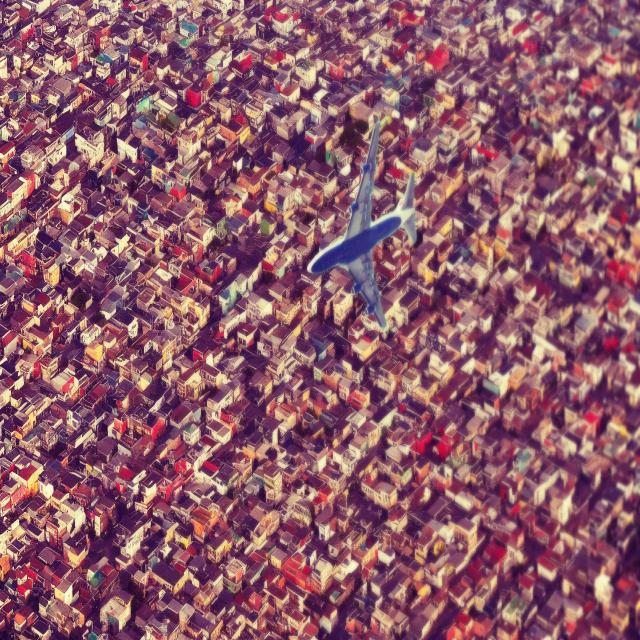airplane: (307, 119, 417, 336)
